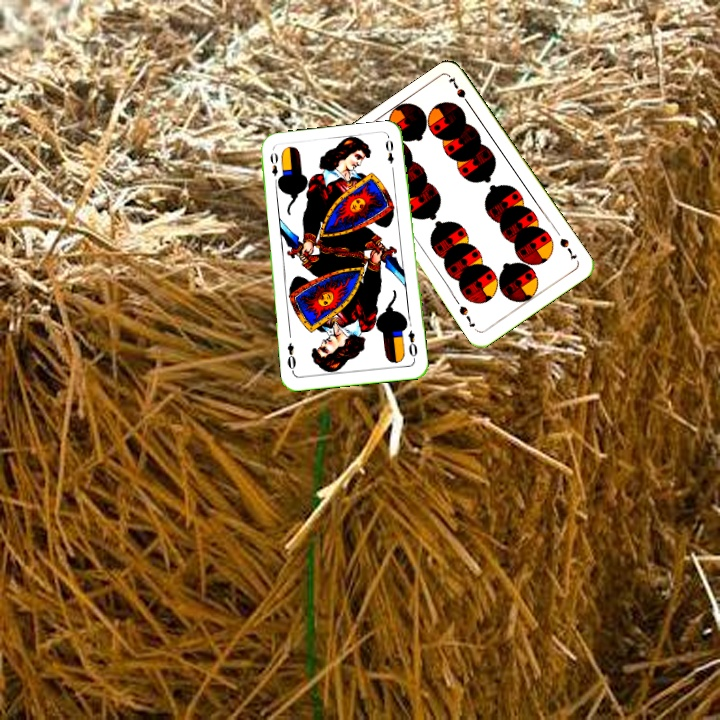EO: (266, 149, 283, 188), (404, 326, 420, 363)
S7: (556, 234, 579, 263)
